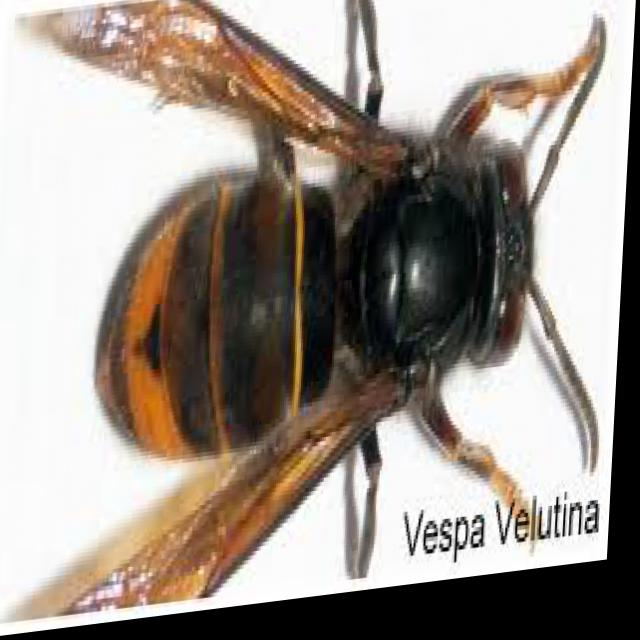Vespa Velutina: (0, 0, 638, 636)
